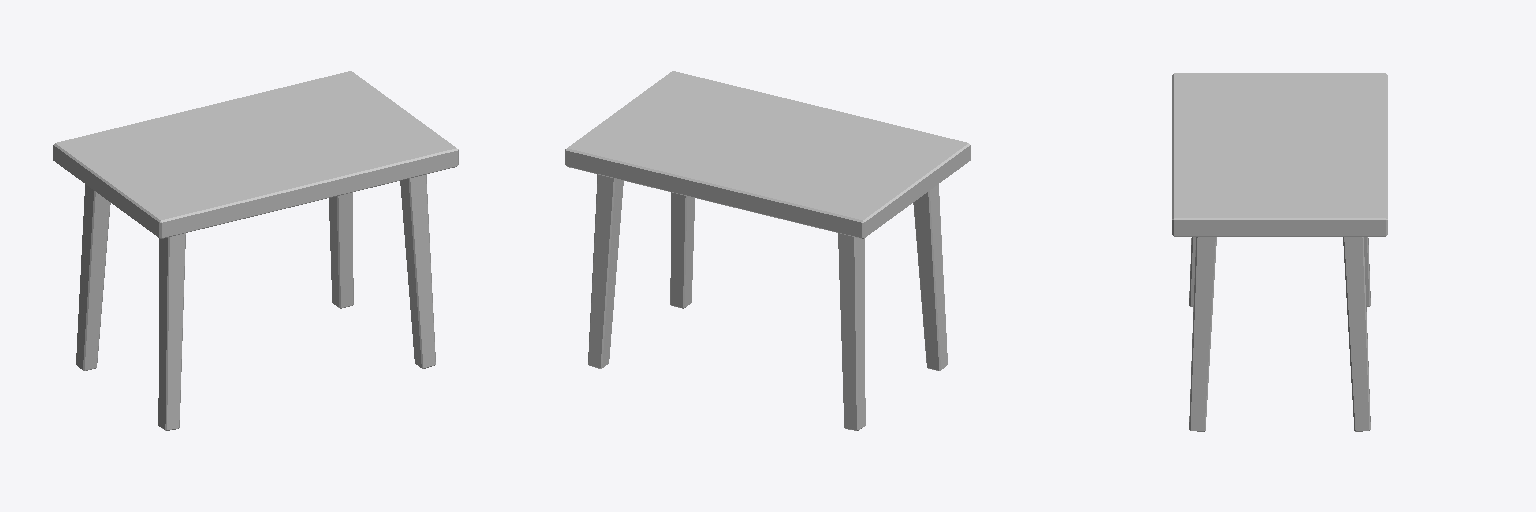
File: wooden_table_02_4k.obj
The picture shows the model from 3 angles: view 1: azimuth 30°, elevation 25°; view 2: azimuth 150°, elevation 25°; view 3: azimuth 270°, elevation 25°; orthographic projection.
Visible parts, largest first — view 1: wooden_table_02; view 2: wooden_table_02; view 3: wooden_table_02.
Boxes of the visible parts, x1=… form: wooden_table_02: x1=53, y1=71, x2=458, y2=430; wooden_table_02: x1=565, y1=71, x2=970, y2=430; wooden_table_02: x1=1172, y1=73, x2=1387, y2=431.
Size of the model in its own units: 1.13 by 0.7995 by 0.706.